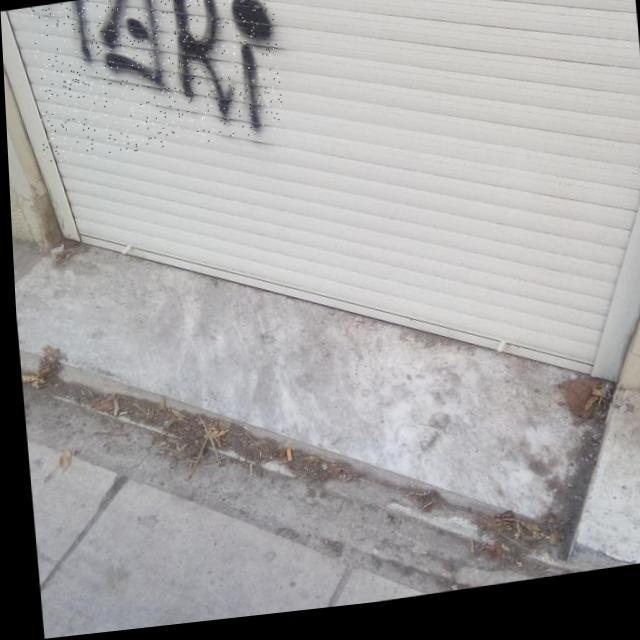-: (30, 0, 282, 166)
